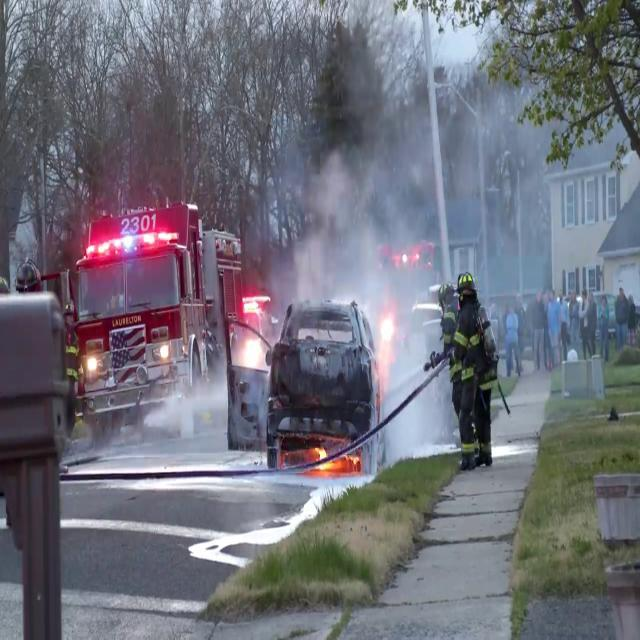Smoke: (272, 11, 574, 336)
